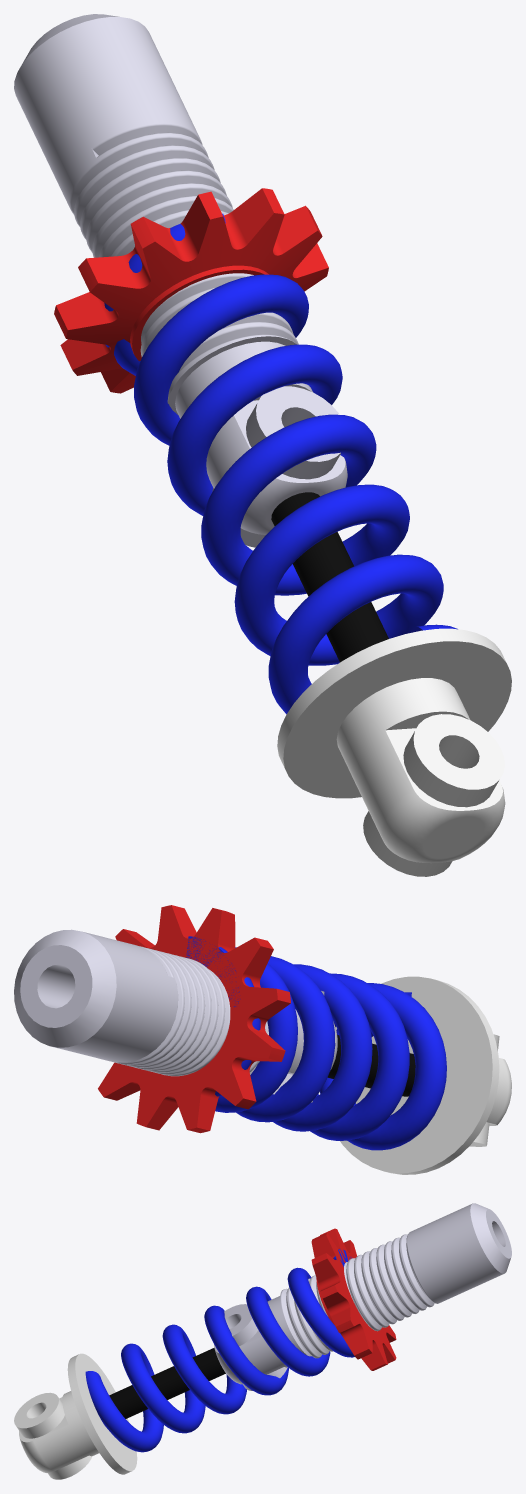
File: Suspension.glb
The picture shows the model from 3 angles, top to bottom: view 1: azimuth 30°, elevation 25°; view 2: azimuth 150°, elevation 25°; view 3: azimuth 270°, elevation 25°; orthographic projection. The views are drawn at different scales.
Parts seen in each view (by area): view 1: SPRING, ROD, BASE, NIT; view 2: SPRING, ROD, NIT, BASE, NUT; view 3: ROD, SPRING, BASE, NIT, NUT.
Part boxes in pixels (x1,y1,x2,y2): SPRING: (104, 213, 457, 714); ROD: (14, 14, 347, 547); BASE: (271, 492, 511, 876); NIT: (54, 188, 328, 393); SPRING: (186, 936, 446, 1150); ROD: (14, 929, 337, 1102); NIT: (98, 905, 290, 1133); BASE: (327, 976, 511, 1174); NUT: (99, 906, 277, 1127); ROD: (214, 1203, 511, 1390); SPRING: (85, 1249, 354, 1452); BASE: (14, 1348, 225, 1479); NIT: (311, 1228, 396, 1370); NUT: (326, 1242, 394, 1362).
Bounding box in the file's own units: 0.566 × 1.1 × 1.74.
